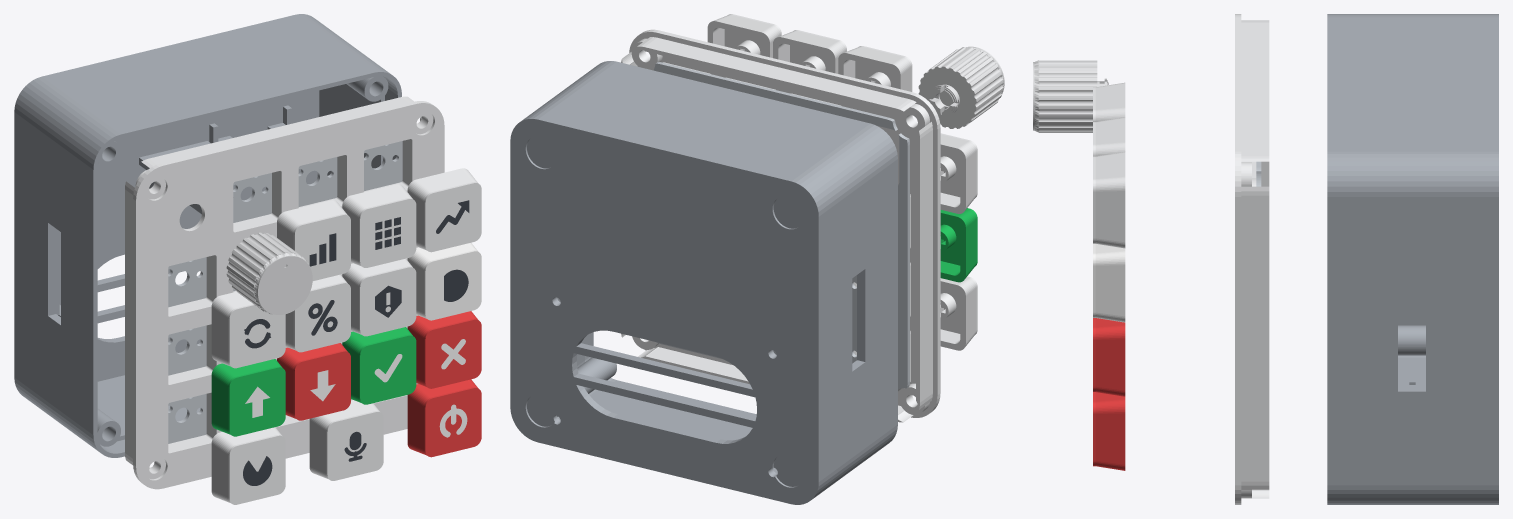
The model's file is orchestrator-pad-exploded.glb.
3 renders of one model, left to right at view 1: azimuth 30°, elevation 25°; view 2: azimuth 150°, elevation 25°; view 3: azimuth 270°, elevation 25°, orthographic. The views are drawn at different scales.
Visible parts, largest first — view 1: tray, plate, switch-deck, knob, momentum, buy, mic, kill, grid, portfolio, yes, rebalance (+11 smaller); view 2: tray, plate, switch-deck, knob, rebalance, portfolio, buy, dca, grid, momentum; view 3: tray, plate, knob, momentum, kill, base, no, grid, dca.
Boxes of the visible parts, x1,y1,x2,y2 form: tray: [14, 14, 401, 457]; plate: [125, 96, 444, 489]; switch-deck: [168, 141, 402, 443]; knob: [226, 232, 312, 314]; momentum: [407, 168, 481, 252]; buy: [211, 359, 285, 436]; mic: [309, 400, 383, 480]; kill: [407, 379, 481, 457]; grid: [342, 184, 416, 267]; portfolio: [211, 427, 285, 504]; yes: [342, 327, 416, 404]; rebalance: [211, 291, 285, 368]; tray: [510, 61, 897, 504]; plate: [621, 29, 940, 422]; switch-deck: [653, 62, 909, 389]; knob: [918, 46, 1004, 128]; rebalance: [940, 133, 977, 213]; portfolio: [940, 276, 977, 350]; buy: [940, 208, 977, 282]; dca: [838, 46, 912, 91]; grid: [773, 30, 846, 73]; momentum: [707, 14, 781, 57]; tray: [1327, 14, 1498, 504]; plate: [1235, 14, 1269, 504]; knob: [1033, 60, 1108, 132]; momentum: [1093, 152, 1125, 248]; kill: [1093, 392, 1125, 470]; base: [1093, 243, 1125, 322]; no: [1093, 318, 1125, 396]; grid: [1093, 117, 1125, 156]; dca: [1093, 82, 1125, 121].
Size of the model in its own units: 90 by 90 by 108.
